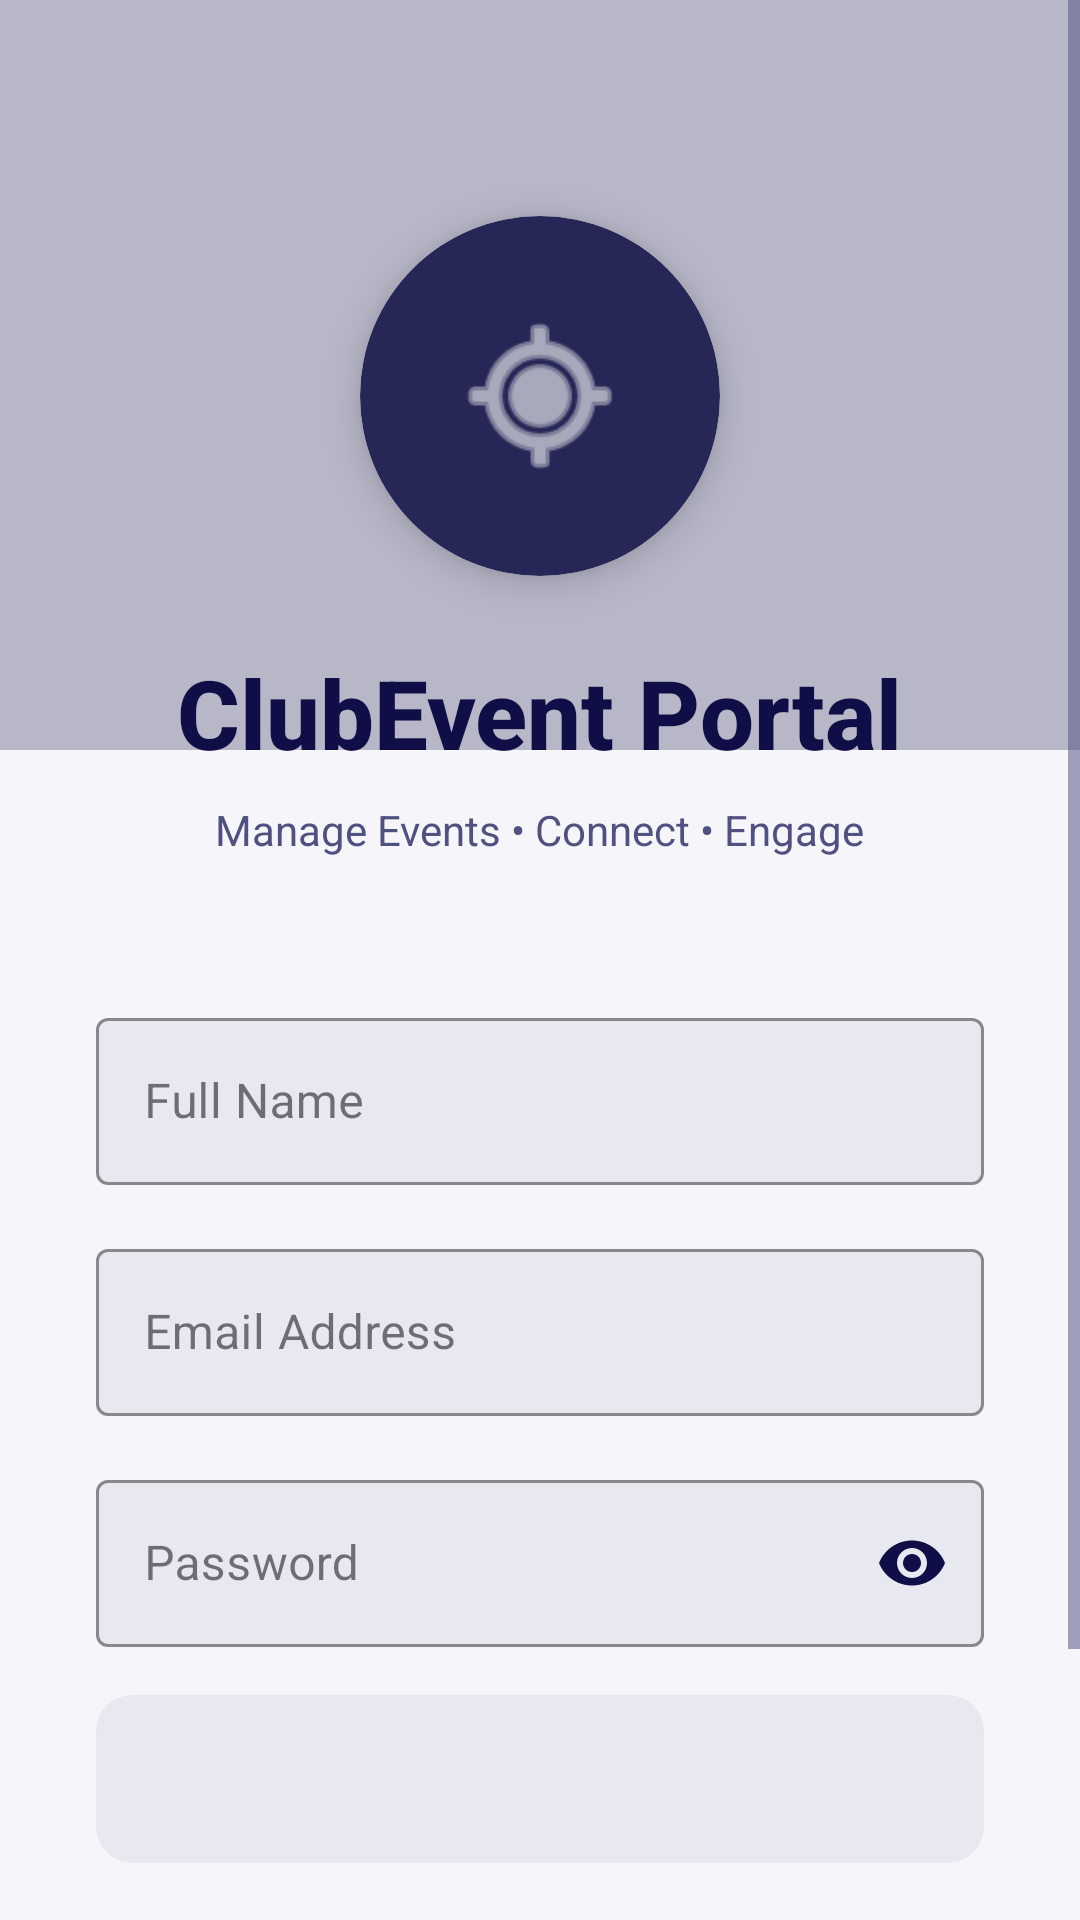

Where icons sit on this 1080px x 1920px app screen, as [x1=x1, y1=y1, x2=x2, y2=y2]:
mylocation: [x1=360, y1=216, x2=720, y2=576]
